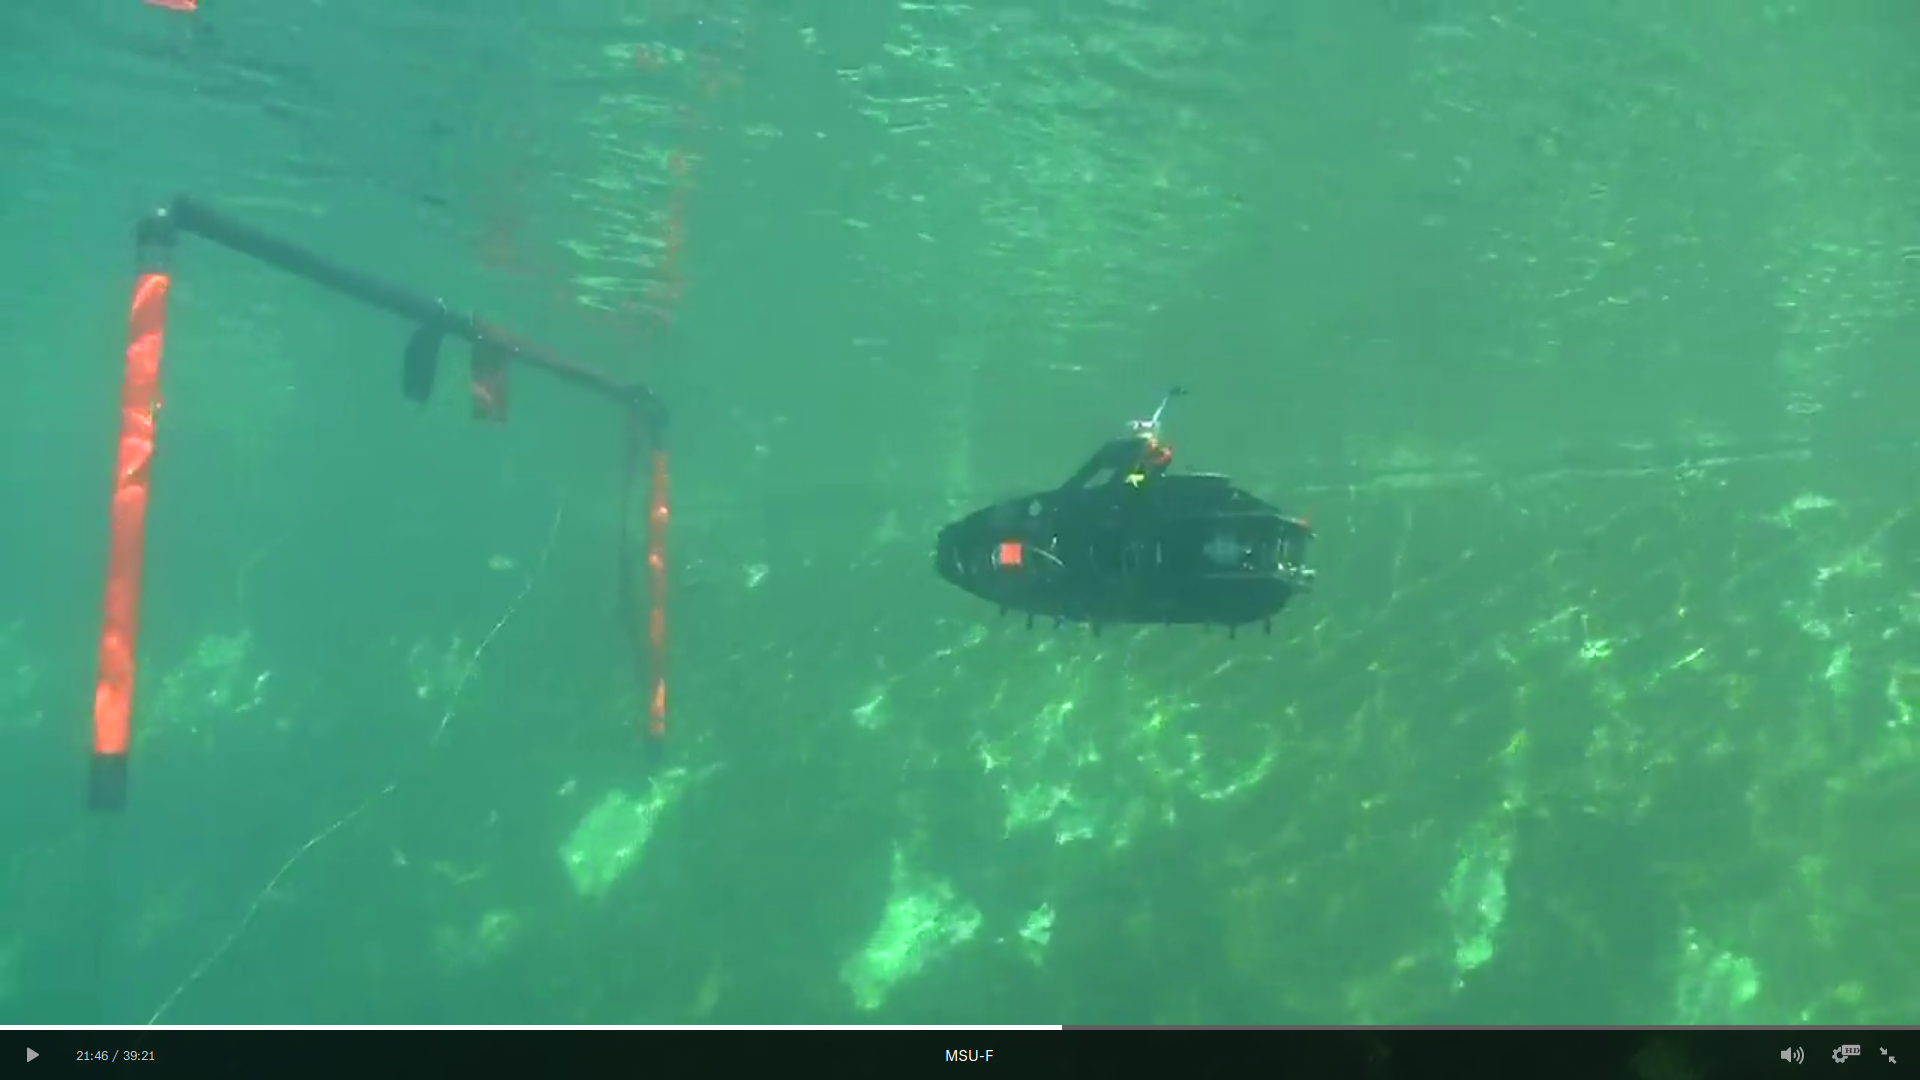gate: (66, 180, 722, 839)
